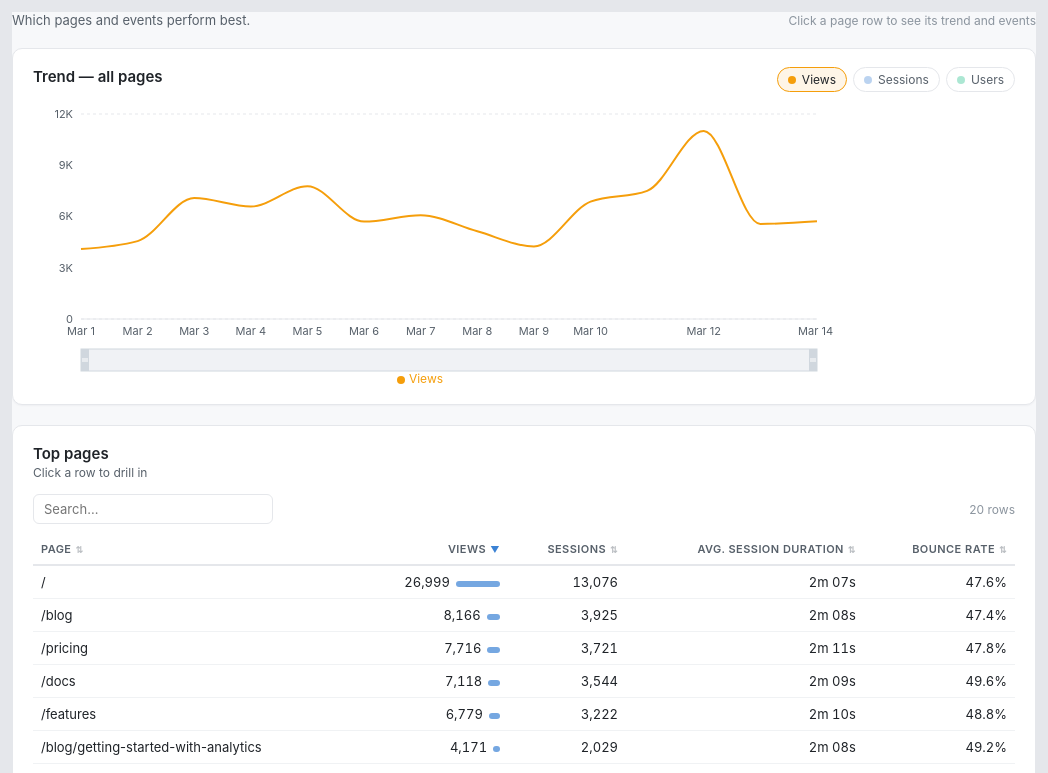
Scenario: ContentPage › drills into a page: trend title, events filter and pill
Click the row "/ 26,999 13,076 2m 07s 47.6%" at x=524, y=582, box [33, 565, 1015, 599]
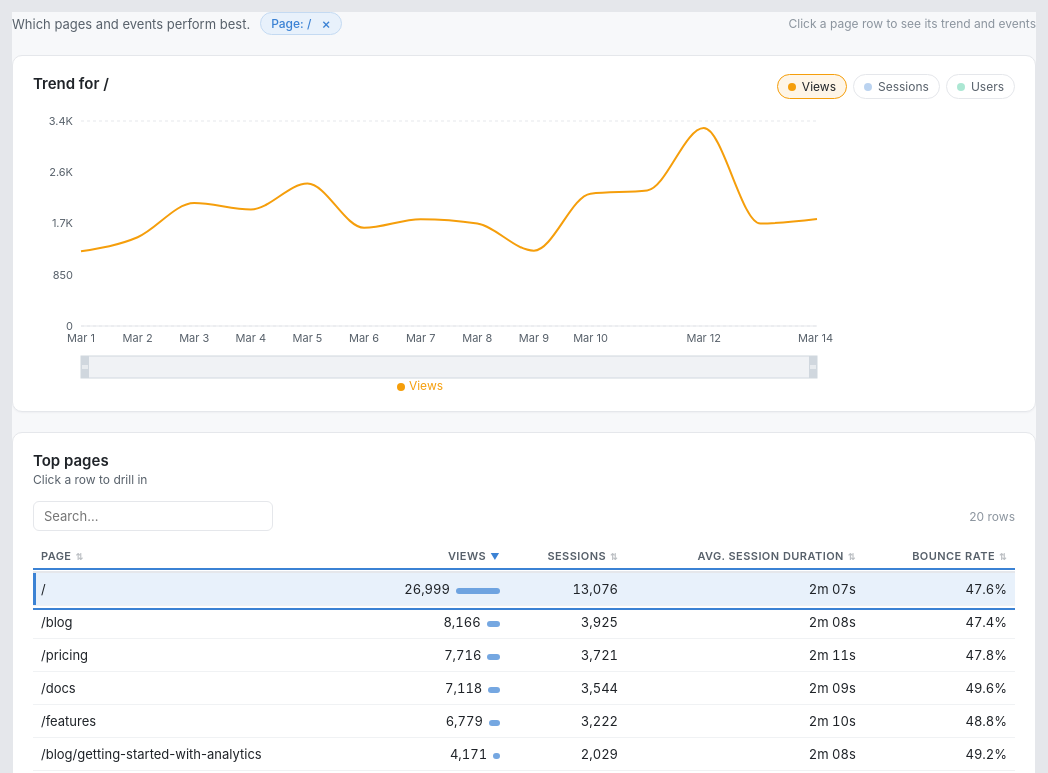
Click the button named "Clear filter" at x=326, y=24, box [317, 16, 335, 30]
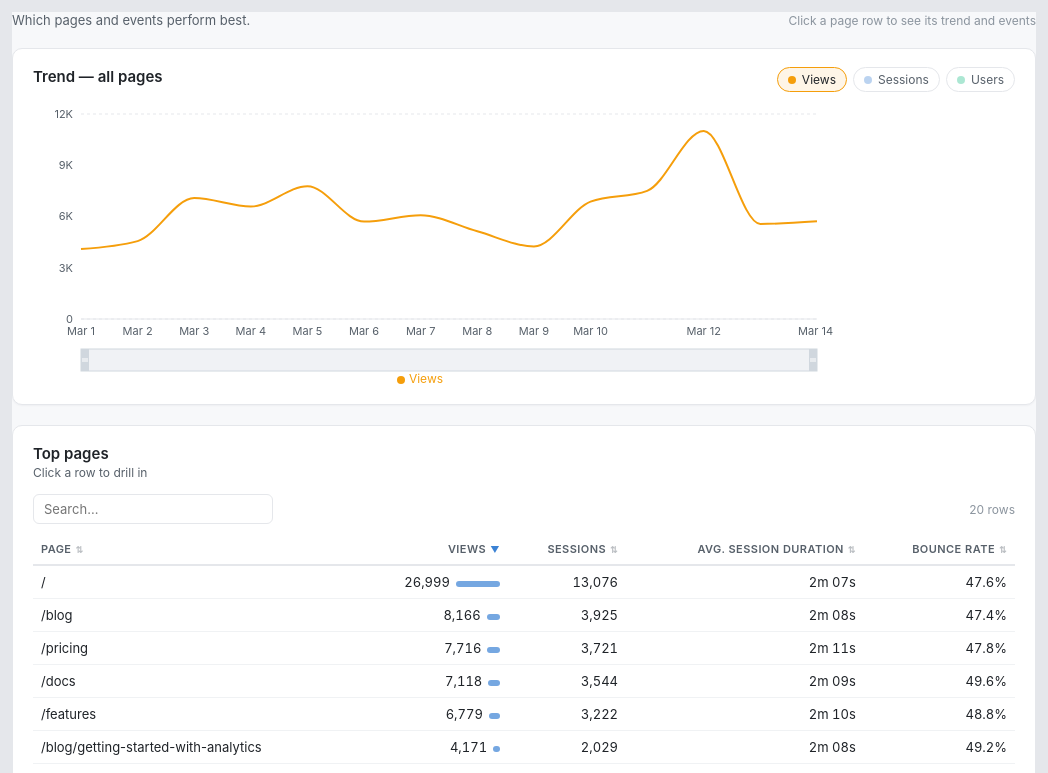
Result: the element "Trend — all pages" is shown at [12, 48, 1036, 405]
